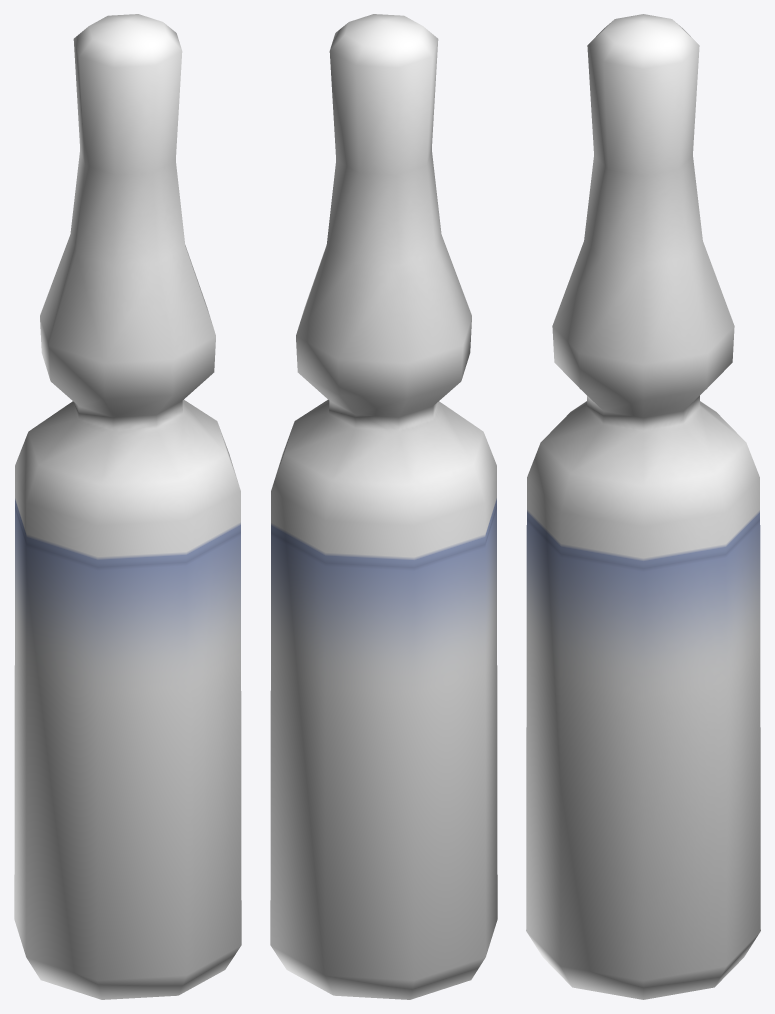
The model's file is ampoule_02.fbx.
The picture shows the model from 3 angles, left to right: view 1: azimuth 30°, elevation 25°; view 2: azimuth 150°, elevation 25°; view 3: azimuth 270°, elevation 25°; orthographic projection.
Parts seen in each view (by area): view 1: ampoule_02; view 2: ampoule_02; view 3: ampoule_02.
Part boxes in pixels (x1,y1,x2,y2): ampoule_02: (14, 14, 241, 999); ampoule_02: (270, 14, 497, 999); ampoule_02: (526, 14, 760, 999).
Size of the model in its own units: 0.1557 by 0.6852 by 0.1557.
